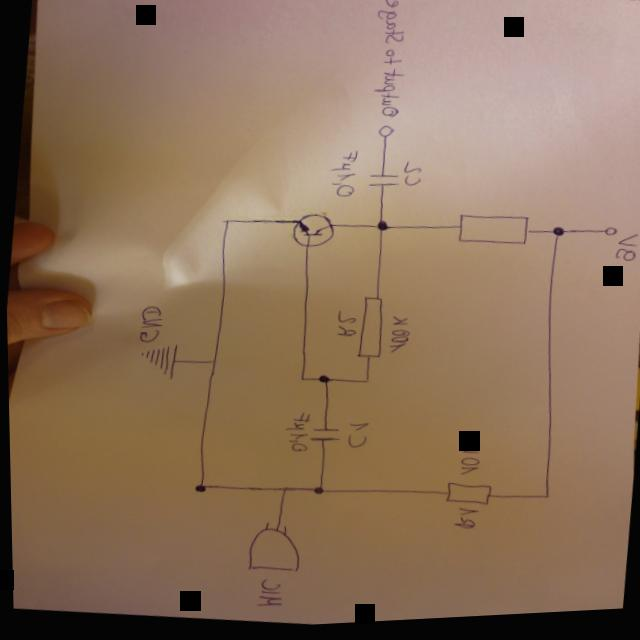capacitor: (365, 172, 401, 196), (306, 426, 341, 447)
ground: (137, 341, 179, 384)
junction: (373, 221, 390, 238), (548, 230, 567, 244), (190, 482, 207, 497), (309, 486, 325, 500), (315, 376, 331, 388), (207, 359, 220, 369), (278, 488, 289, 497), (360, 381, 372, 388), (219, 220, 231, 227), (541, 498, 550, 505), (297, 378, 305, 385)
resistor: (453, 211, 531, 256), (353, 297, 389, 365), (442, 483, 490, 512)
terminal: (377, 127, 394, 143), (601, 232, 618, 244)
text: (366, 0, 415, 123), (326, 151, 361, 203), (281, 413, 311, 457), (136, 304, 166, 347), (251, 579, 284, 613), (386, 317, 412, 359), (613, 237, 640, 270), (456, 444, 480, 481), (344, 422, 370, 453), (333, 311, 358, 342), (450, 509, 477, 536), (401, 164, 424, 192)
transistor: (287, 210, 338, 255)
